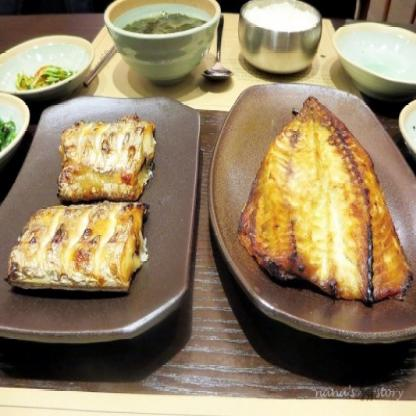Peixe: (233, 93, 416, 314), (4, 114, 171, 322)
